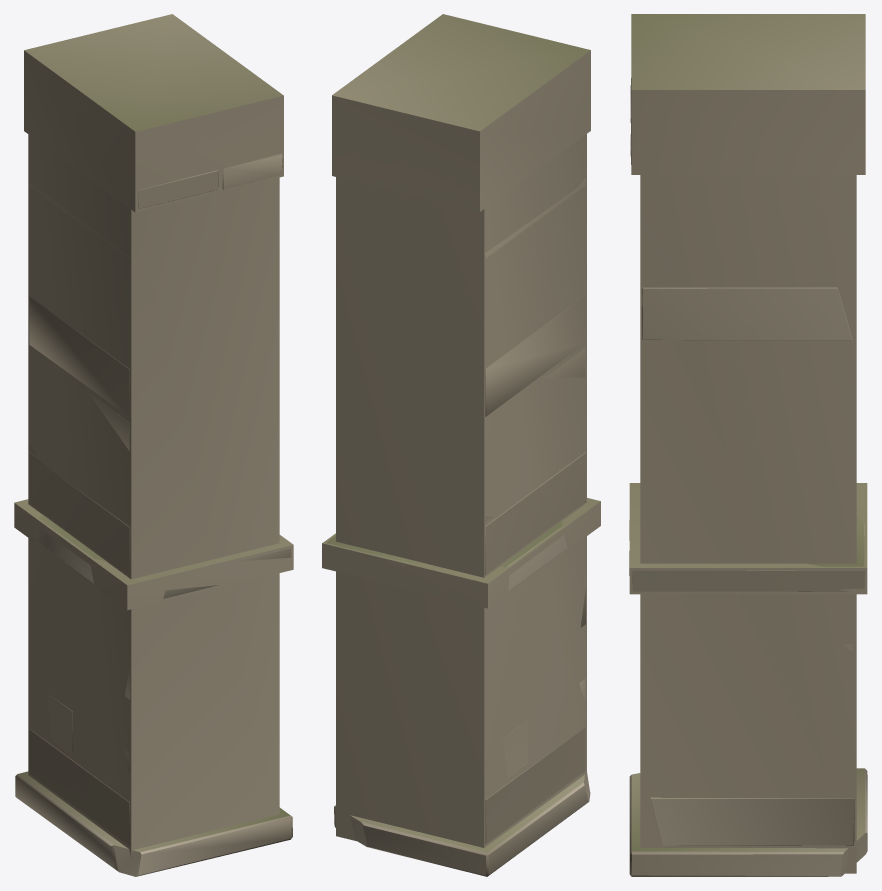
File: viaduct_top_pier.glb
3 renders of one model, left to right at view 1: azimuth 30°, elevation 25°; view 2: azimuth 150°, elevation 25°; view 3: azimuth 270°, elevation 25°, orthographic. The views are drawn at different scales.
Visible parts, largest first — view 1: viaduct_top_pier_far, viaduct_top_pier; view 2: viaduct_top_pier_far, viaduct_top_pier; view 3: viaduct_top_pier_far, viaduct_top_pier.
Boxes of the visible parts, x1,y1,x2,y2 form: viaduct_top_pier_far: [14, 14, 293, 857]; viaduct_top_pier: [15, 153, 292, 876]; viaduct_top_pier_far: [322, 14, 600, 847]; viaduct_top_pier: [326, 168, 590, 876]; viaduct_top_pier_far: [629, 14, 867, 873]; viaduct_top_pier: [629, 78, 867, 876].
Size of the model in its own units: 5.62 by 24 by 6.62.
